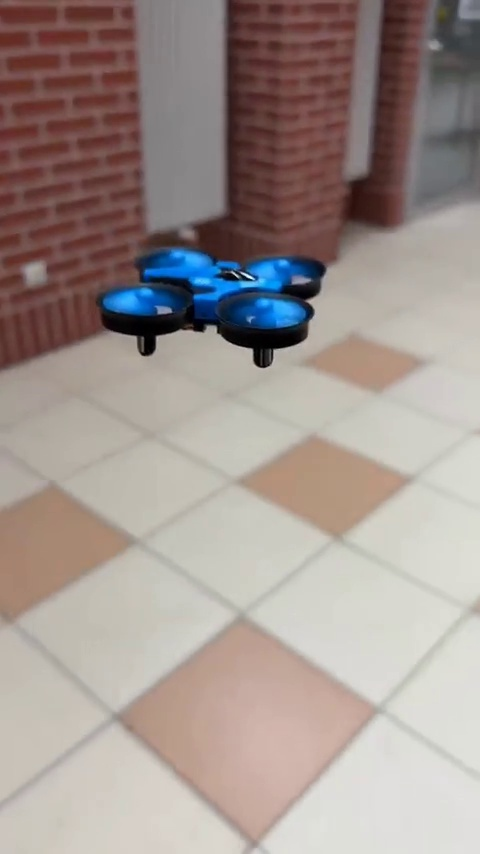drone: (98, 244, 325, 375)
